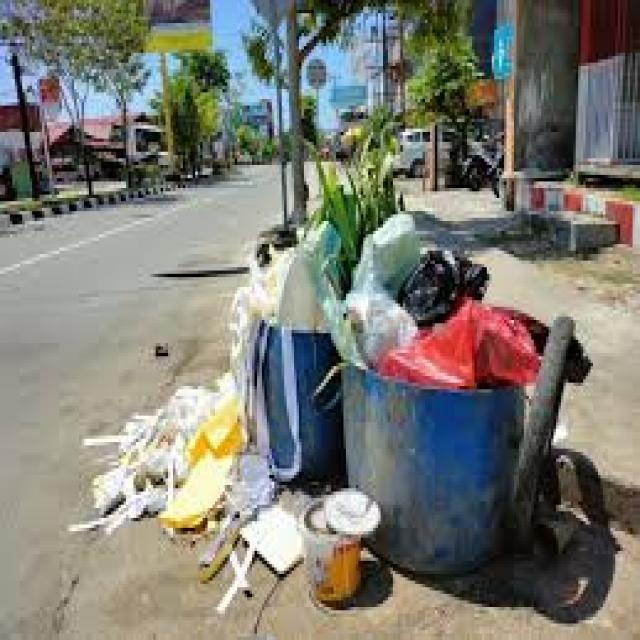trash: (90, 204, 606, 629)
